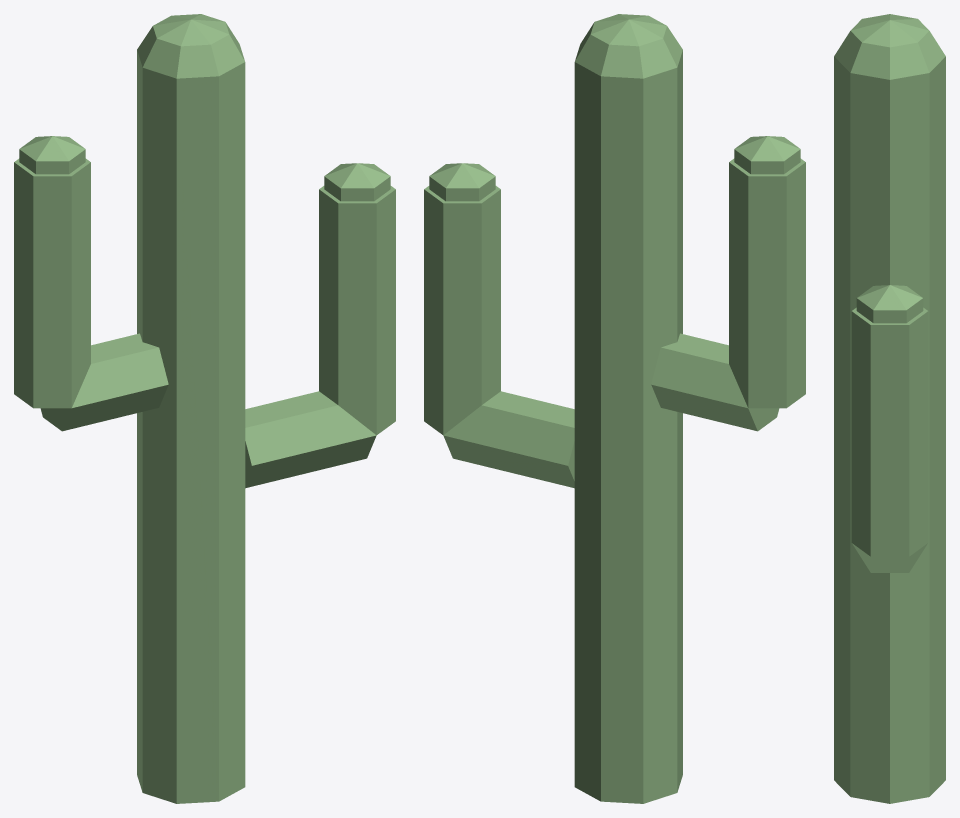
File: saguaro.glb
3 renders of one model, left to right at view 1: azimuth 30°, elevation 25°; view 2: azimuth 150°, elevation 25°; view 3: azimuth 270°, elevation 25°, orthographic.
Visible parts, largest first — view 1: saguaro; view 2: saguaro; view 3: saguaro.
Boxes of the visible parts, x1,y1,x2,y2 form: saguaro: (14,14,395,803); saguaro: (424,14,805,803); saguaro: (834,14,945,803).
Size of the model in its own units: 2.62 by 5.25 by 0.7.
